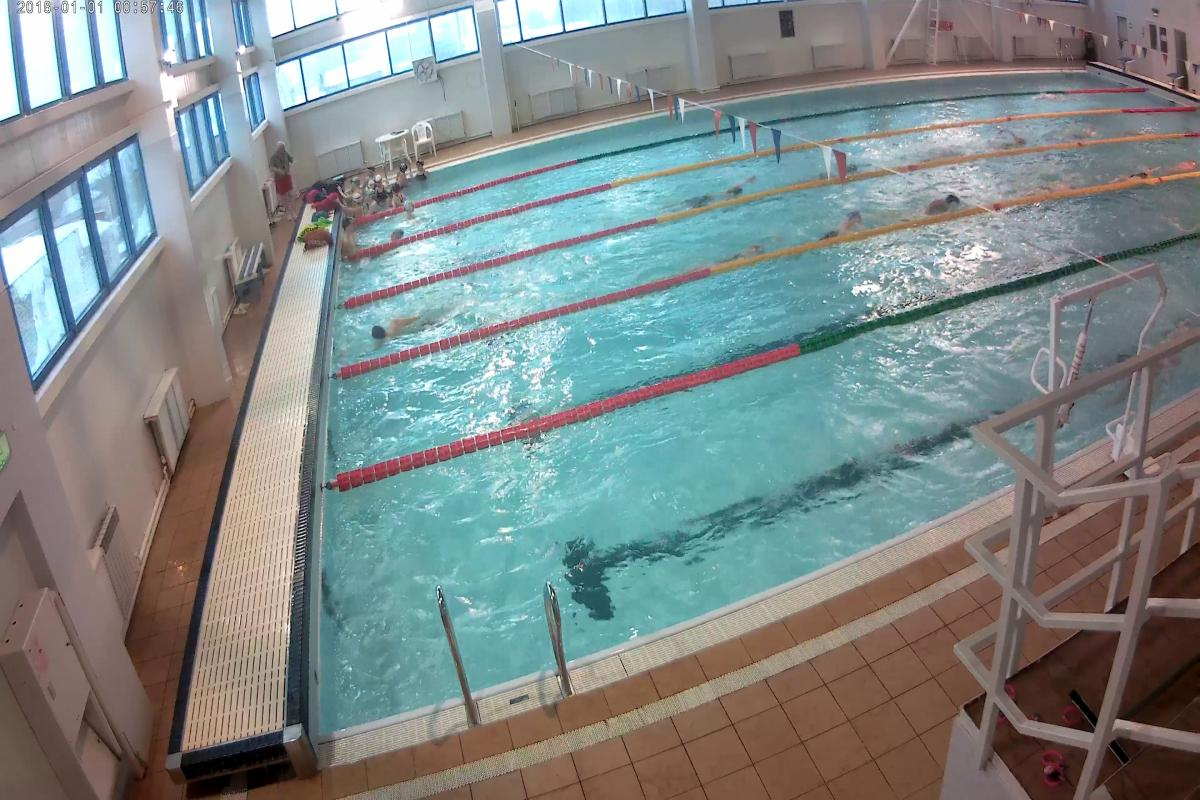swimmer: (365, 308, 439, 353), (688, 170, 763, 204), (820, 204, 865, 237), (916, 189, 965, 217), (993, 127, 1029, 147)
